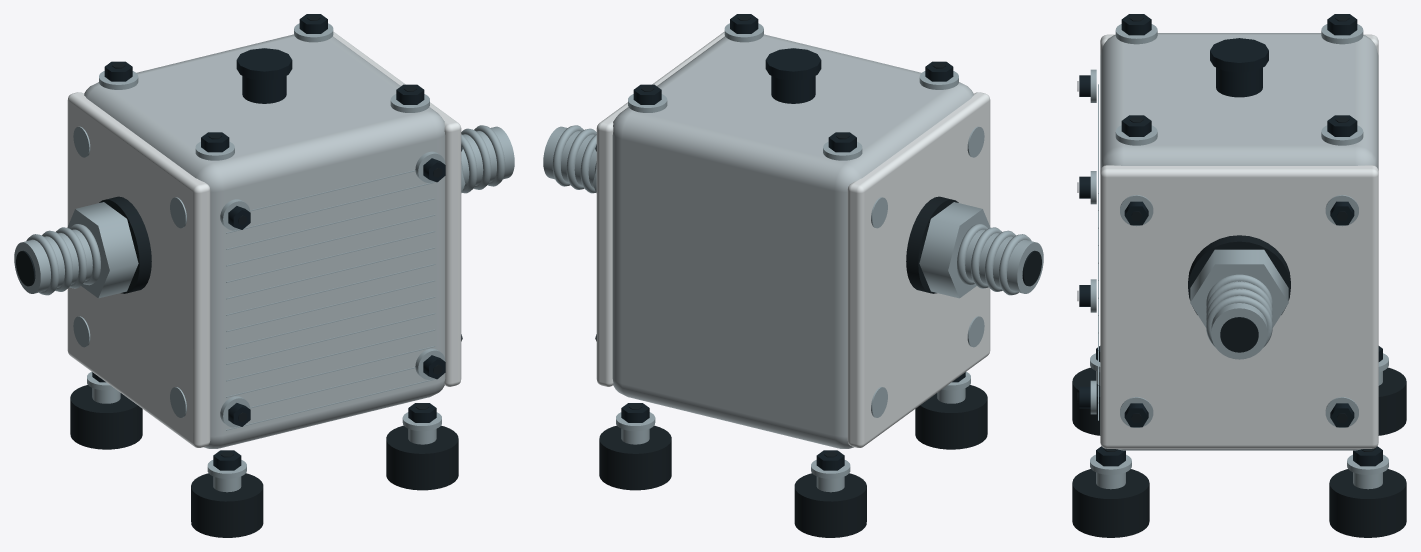
File: heat-block.glb
The picture shows the model from 3 angles, left to right: view 1: azimuth 30°, elevation 25°; view 2: azimuth 150°, elevation 25°; view 3: azimuth 270°, elevation 25°; orthographic projection. The views are drawn at different scales.
Visible parts, largest first — view 1: satin-aluminium, machined-edge, stainless-steel, matte-polymer, black-anodised; view 2: satin-aluminium, machined-edge, stainless-steel, matte-polymer, black-anodised; view 3: machined-edge, satin-aluminium, matte-polymer, stainless-steel, black-anodised.
Part boxes in pixels (box(x1,y1,x2,y2)): satin-aluminium: box(84, 34, 445, 448); machined-edge: box(67, 32, 461, 447); stainless-steel: box(14, 23, 514, 492); matte-polymer: box(16, 15, 458, 537); black-anodised: box(92, 14, 462, 470); satin-aluminium: box(612, 34, 973, 448); machined-edge: box(596, 32, 990, 447); stainless-steel: box(543, 23, 1043, 492); matte-polymer: box(599, 15, 1041, 537); black-anodised: box(595, 14, 965, 470); machined-edge: box(1100, 34, 1378, 448); satin-aluminium: box(1100, 33, 1378, 450); matte-polymer: box(1072, 15, 1406, 537); stainless-steel: box(1090, 24, 1388, 489); black-anodised: box(1079, 14, 1382, 466).
Size of the model in its own units: 1.37 by 1.08 by 0.78.
